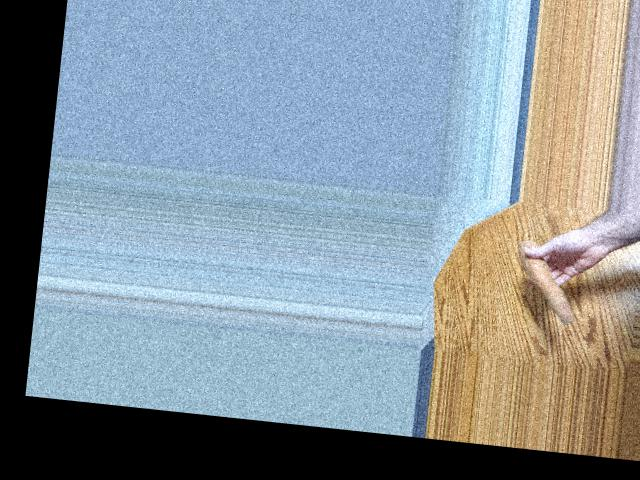sweet_potato: (514, 240, 583, 324)
